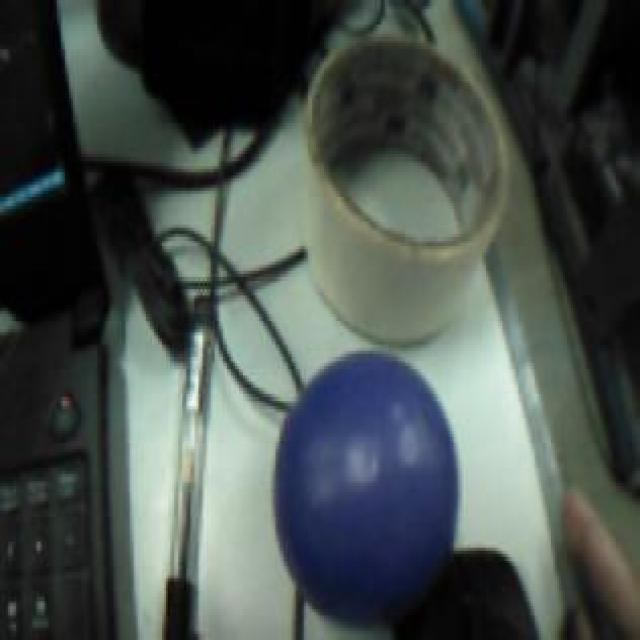BallPurple: (271, 349, 458, 629)
